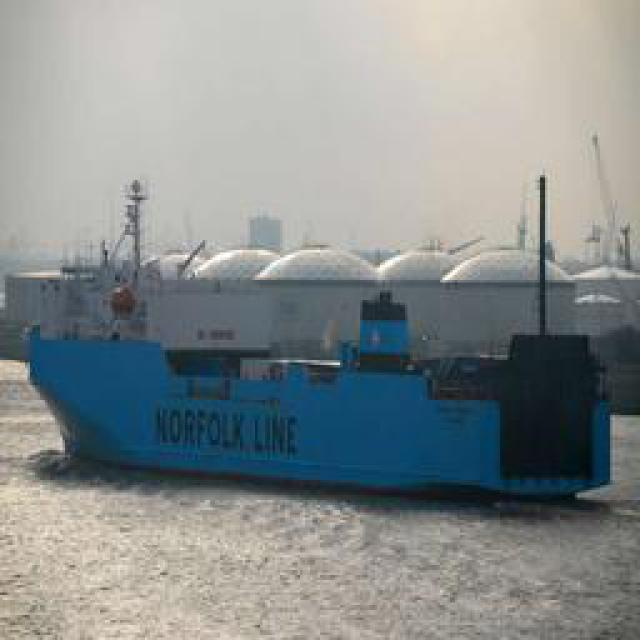Ship: (18, 192, 640, 495)
